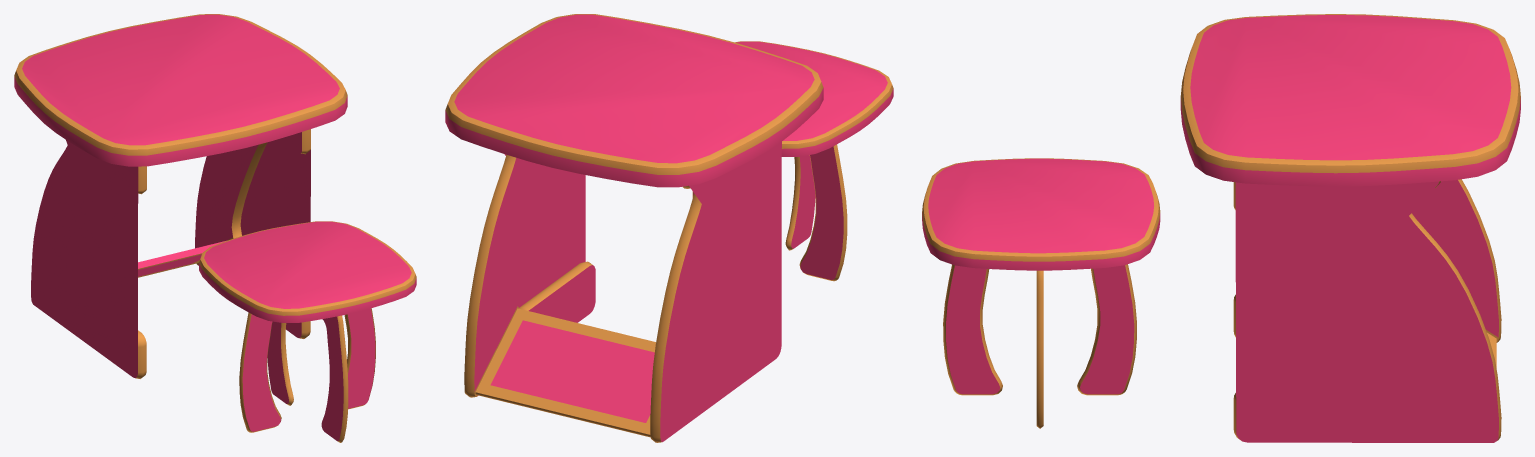
Rendered from Studant Table Chair LEVEL-3.fbx.
3 renders of one model, left to right at view 1: azimuth 30°, elevation 25°; view 2: azimuth 150°, elevation 25°; view 3: azimuth 270°, elevation 25°, orthographic. The views are drawn at different scales.
Parts seen in each view (by area): view 1: Studant Table Chair LEVEL-3; view 2: Studant Table Chair LEVEL-3; view 3: Studant Table Chair LEVEL-3.
Boxes of the visible parts, x1,y1,x2,y2 form: Studant Table Chair LEVEL-3: (14, 14, 416, 442); Studant Table Chair LEVEL-3: (445, 14, 893, 442); Studant Table Chair LEVEL-3: (922, 14, 1520, 442).
Size of the model in its own units: 7.45 by 6.91 by 12.27.
